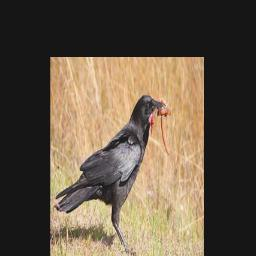Crow: (54, 89, 176, 254)
